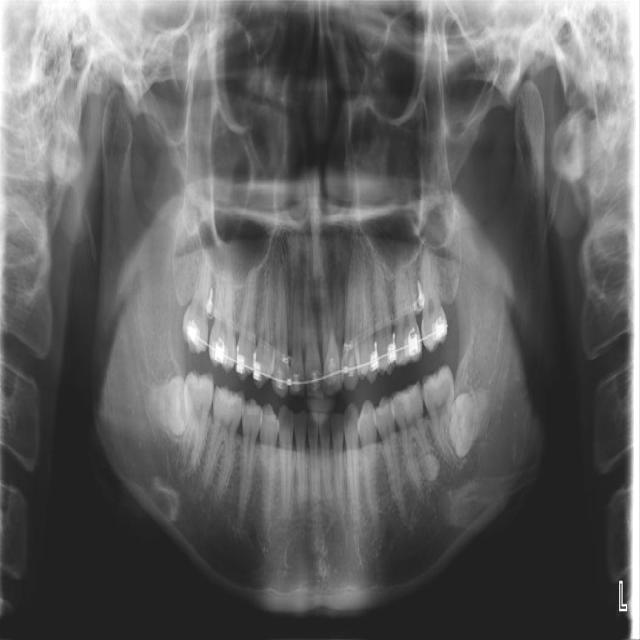impacted tooth: (448, 387, 495, 455), (145, 377, 184, 434)
